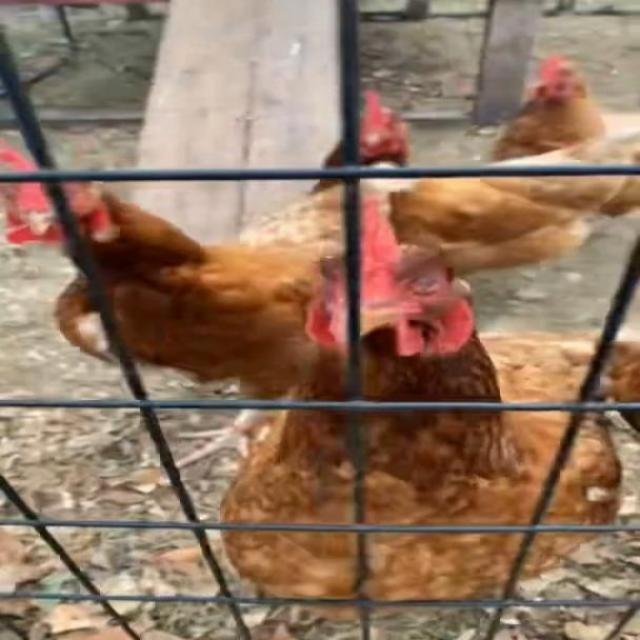Chicken: (219, 194, 624, 622), (0, 139, 386, 469), (310, 89, 626, 272), (489, 55, 640, 216), (601, 334, 640, 433)
